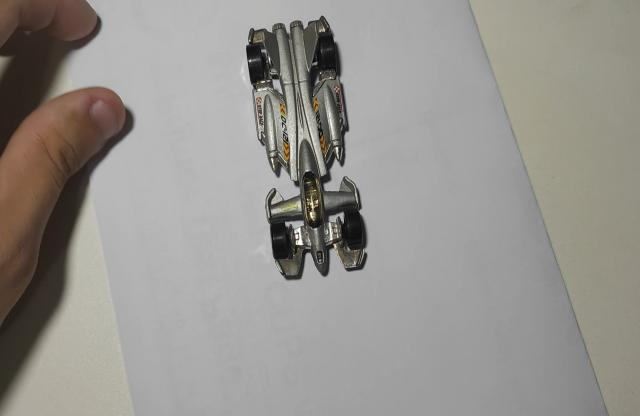05_DC121: (245, 17, 369, 282)
